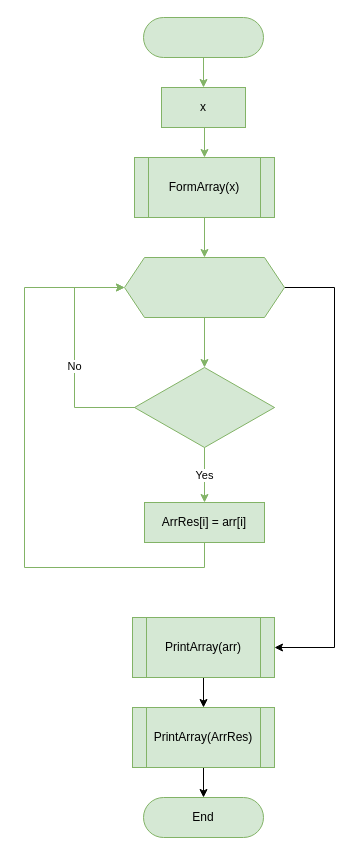
This 360x855 diagram has some shape labels left out. Here are the shapes that lost their labels. From the top down, the centre of each, then its label:
the point at 203,37: Start
the point at 204,287: i = 0; i < arr.Length; i++
the point at 204,407: arr[i].Length < 4
